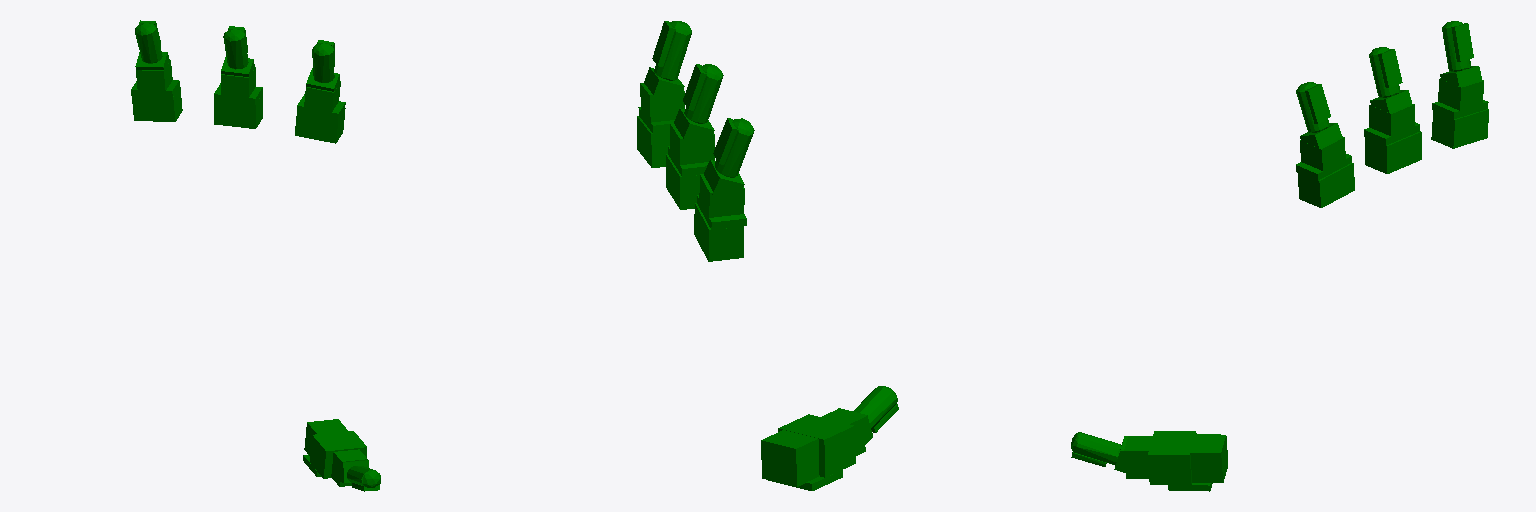
URDF robot description (kuka_allegro):
<?xml version="1.0" ?>
<!-- ============================================================================================== -->
<!-- |    This document was originally autogenerated by xacro from lula_kuka_allegro.urdf.xacro   | -->
<!-- ============================================================================================== -->
<robot name="kuka_allegro" xmlns:xacro="http://www.ros.org/wiki/xacro">
  <!-- ======================== BASE PARAMS ========================= -->
  <!-- ======================== FINGER PARAMS ======================== -->
  <!-- full height from joint to tip. when used,
       the radius of the finger tip sphere will be subtracted
       and one fixed link will be added for the tip. -->
  <!-- ========================= THUMB PARAMS ========================= -->
  <!-- ========================= LIMITS ========================= -->
  <!-- ============================================================================= -->
  <!-- BASE -->
  <link name="allegro_mount">
    <inertial>
      <mass value="0.05"/>
      <origin rpy="0 0 0" xyz="0 0 0"/>
      <inertia ixx="1e-4" ixy="0" ixz="0" iyy="1e-4" iyz="0" izz="1e-4"/>
    </inertial>
    <visual>
      <origin rpy="0 0 0" xyz="0 0 0"/>
      <geometry>
        <mesh filename="kuka_allegro_description/meshes/mounts/allegro_mount.obj"/>
      </geometry>
      <material name="color_j7"/>
    </visual>
    <collision>
      <origin rpy="0 0 0" xyz="0 0 0"/>
      <geometry>
        <mesh filename="kuka_allegro_description/meshes/mounts/allegro_mount.obj"/>
      </geometry>
    </collision>
  </link>
  <joint name="allegro_mount_joint" type="fixed">
    <origin rpy="0 -1.5708 0.785398" xyz="-0.008219 -0.02063 0.08086"/>
    <parent link="allegro_mount"/>
    <child link="palm_link"/>
  </joint>
  <link name="palm_link">
    <inertial>
      <mass value="0.4154"/>
      <origin rpy="0 0 0" xyz="0 0 0"/>
      <inertia ixx="1e-4" ixy="0" ixz="0" iyy="1e-4" iyz="0" izz="1e-4"/>
    </inertial>
    <visual>
      <geometry>
        <mesh filename="kuka_allegro_description/meshes/allegro/base_link.obj"/>
      </geometry>
      <origin rpy="0 0 0" xyz="0 0 0 "/>
      <material name="Grey">
        <color rgba="0.2 0.2 0.2 1"/>
      </material>
    </visual>
    <collision>
      <origin rpy="0 0 0" xyz="0 0 0"/>
      <geometry>
        <mesh filename="kuka_allegro_description/meshes/allegro/base_link.obj"/>
      </geometry>
    </collision>
  </link>
  
  <gazebo reference="palm_link">
    <material value="Gazebo/Grey"/>
  </gazebo>
  <link name="index_link_0">
    <collision>
      <geometry>
        <mesh filename="kuka_allegro_description/meshes/allegro/primary_base.obj"/>
      </geometry>
    </collision>
    <inertial>
      <mass value="0.0119"/>
      <origin rpy="0 0 0" xyz="0 0 0"/>
      <inertia ixx="1.01666658333e-06" ixy="0.0" ixz="0.0" iyy="6.47677333333e-07" iyz="0.0" izz="1.01666658333e-06"/>
    </inertial>
    <visual>
      <geometry>
        <mesh filename="kuka_allegro_description/meshes/allegro/primary_base.obj"/>
      </geometry>
      <material name="Grey">
        <color rgba="0.2 0.2 0.2 1"/>
      </material>
    </visual>
  </link>
  <link name="index_link_1">
    <collision>
      <geometry>
        <mesh filename="kuka_allegro_description/meshes/allegro/primary_proximal.obj"/>
      </geometry>
    </collision>
    <inertial>
      <mass value="0.065"/>
      <origin rpy="0 0 0" xyz="0 0 0"/>
      <inertia ixx="7.95654166667e-05" ixy="1.7199e-05" ixz="8.75875e-06" iyy="2.47088833333e-05" iyz="2.413125e-05" izz="7.95654166667e-05"/>
    </inertial>
    <visual>
      <geometry>
        <mesh filename="kuka_allegro_description/meshes/allegro/primary_proximal.obj"/>
      </geometry>
      <material name="Grey">
        <color rgba="0.2 0.2 0.2 1"/>
      </material>
    </visual>
  </link>
  <link name="index_link_2">
    <collision>
      <geometry>
        <mesh filename="kuka_allegro_description/meshes/allegro/primary_medial.obj"/>
      </geometry>
    </collision>
        <inertial>
      <mass value="0.0355"/>
      <origin rpy="0 0 0" xyz="0 0 0"/>
      <inertia ixx="2.63979183333e-05" ixy="6.67968e-06" ixz="4.783625e-06" iyy="1.34948516667e-05" iyz="9.372e-06" izz="2.63979183333e-05"/>
    </inertial>
    <visual>
      <geometry>
        <mesh filename="kuka_allegro_description/meshes/allegro/primary_medial.obj"/>
      </geometry>
      <material name="Grey">
        <color rgba="0.2 0.2 0.2 1"/>
      </material>
    </visual>
  </link>
  <link name="index_link_3">
    <collision>
      <geometry>
        <mesh filename="meshes/touchsensor/collision/touch_sensor_base.obj"/>
      </geometry>
    </collision>
    <inertial>
      <mass value="0.0096"/>
      <origin rpy="0 0 0" xyz="0 0 0"/>
      <inertia ixx="4.701248e-06" ixy="1.255968e-06" ixz="1.2936e-06" iyy="3.649312e-06" iyz="1.7622e-06" izz="4.701248e-06"/>
    </inertial>
    <visual>
      <geometry>
        <mesh filename="meshes/touchsensor/visual/touch_sensor_base.obj"/>
      </geometry>
      <material name="Green">
        <color rgba="0. 0.5 0. 1"/>
      </material>
    </visual>
  </link>
  <link name="index_biotac_tip">
    <collision>
      <geometry>
        <mesh filename="meshes/touchsensor/collision/touch_sensor_tip.obj"/>
      </geometry>
    </collision>
    <inertial>
      <mass value="0.021"/>
      <origin rpy="0 0 0" xyz="0 0 0"/>
      <inertia ixx="9.68e-07" ixy="0" ixz="0" iyy="9.68e-07" iyz="0" izz="9.68e-07"/>
    </inertial>
    <visual>
      <geometry>
        <mesh filename="meshes/touchsensor/visual/touch_sensor_tip.obj"/>
      </geometry>
      <material name="Green">
        <color rgba="0. 0.5 0. 1"/>
      </material>
    </visual>
  </link>
  <link name="middle_link_0">
    <collision>
      <geometry>
        <mesh filename="kuka_allegro_description/meshes/allegro/primary_base.obj"/>
      </geometry>
    </collision>
    <inertial>
      <mass value="0.0119"/>
      <origin rpy="0 0 0" xyz="0 0 0"/>
      <inertia ixx="1.01666658333e-06" ixy="0.0" ixz="0.0" iyy="6.47677333333e-07" iyz="0.0" izz="1.01666658333e-06"/>
    </inertial>
    <visual>
      <geometry>
        <mesh filename="kuka_allegro_description/meshes/allegro/primary_base.obj"/>
      </geometry>
      <material name="Grey">
        <color rgba="0.2 0.2 0.2 1"/>
      </material>
    </visual>
  </link>
  <link name="middle_link_1">
    <collision>
      <geometry>
        <mesh filename="kuka_allegro_description/meshes/allegro/primary_proximal.obj"/>
      </geometry>
    </collision>
    <inertial>
      <mass value="0.065"/>
      <origin rpy="0 0 0" xyz="0 0 0"/>
      <inertia ixx="7.95654166667e-05" ixy="1.7199e-05" ixz="8.75875e-06" iyy="2.47088833333e-05" iyz="2.413125e-05" izz="7.95654166667e-05"/>
    </inertial>
    <visual>
      <geometry>
        <mesh filename="kuka_allegro_description/meshes/allegro/primary_proximal.obj"/>
      </geometry>
      <material name="Grey">
        <color rgba="0.2 0.2 0.2 1"/>
      </material>
    </visual>
  </link>
  <link name="middle_link_2">
    <collision>
      <geometry>
        <mesh filename="kuka_allegro_description/meshes/allegro/primary_medial.obj"/>
      </geometry>
    </collision>
    <inertial>
      <mass value="0.0355"/>
      <origin rpy="0 0 0" xyz="0 0 0"/>
      <inertia ixx="2.63979183333e-05" ixy="6.67968e-06" ixz="4.783625e-06" iyy="1.34948516667e-05" iyz="9.372e-06" izz="2.63979183333e-05"/>
    </inertial>
    <visual>
      <geometry>
        <mesh filename="kuka_allegro_description/meshes/allegro/primary_medial.obj"/>
      </geometry>
      <material name="Grey">
        <color rgba="0.2 0.2 0.2 1"/>
      </material>
    </visual>
  </link>
  <link name="middle_link_3">
    <collision>
      <geometry>
        <mesh filename="meshes/touchsensor/collision/touch_sensor_base.obj"/>
      </geometry>
    </collision>
    <inertial>
      <mass value="0.0096"/>
      <origin rpy="0 0 0" xyz="0 0 0"/>
      <inertia ixx="4.701248e-06" ixy="1.255968e-06" ixz="1.2936e-06" iyy="3.649312e-06" iyz="1.7622e-06" izz="4.701248e-06"/>
    </inertial>
    <visual>
      <geometry>
        <mesh filename="meshes/touchsensor/visual/touch_sensor_base.obj"/>
      </geometry>
      <material name="Green">
        <color rgba="0 0.5 0 1"/>
      </material>
    </visual>
  </link>
  <link name="middle_biotac_tip">
    <collision>
      <geometry>
        <mesh filename="meshes/touchsensor/collision/touch_sensor_tip.obj"/>
      </geometry>
    </collision>
    <inertial>
      <mass value="0.021"/>
      <origin rpy="0 0 0" xyz="0 0 0"/>
      <inertia ixx="9.68e-07" ixy="0" ixz="0" iyy="9.68e-07" iyz="0" izz="9.68e-07"/>
    </inertial>
    <visual>
      <geometry>
        <mesh filename="meshes/touchsensor/visual/touch_sensor_tip.obj"/>
      </geometry>
      <material name="Green">
        <color rgba="0. 0.5 0. 1"/>
      </material>
    </visual>
  </link>

  <link name="ring_link_0">
    <collision>
      <geometry>
        <mesh filename="kuka_allegro_description/meshes/allegro/primary_base.obj"/>
      </geometry>
    </collision>
    <inertial>
      <mass value="0.0119"/>
      <origin rpy="0 0 0" xyz="0 0 0"/>
      <inertia ixx="1.01666658333e-06" ixy="0.0" ixz="0.0" iyy="6.47677333333e-07" iyz="0.0" izz="1.01666658333e-06"/>
    </inertial>
    <visual>
      <geometry>
        <mesh filename="kuka_allegro_description/meshes/allegro/primary_base.obj"/>
      </geometry>
      <material name="Grey">
        <color rgba="0.2 0.2 0.2 1"/>
      </material>
    </visual>
  </link>
  <link name="ring_link_1">
    <collision>
      <geometry>
        <mesh filename="kuka_allegro_description/meshes/allegro/primary_proximal.obj"/>
      </geometry>
    </collision>
    <inertial>
      <mass value="0.065"/>
      <origin rpy="0 0 0" xyz="0 0 0"/>
      <inertia ixx="7.95654166667e-05" ixy="1.7199e-05" ixz="8.75875e-06" iyy="2.47088833333e-05" iyz="2.413125e-05" izz="7.95654166667e-05"/>
    </inertial>
    <visual>
      <geometry>
        <mesh filename="kuka_allegro_description/meshes/allegro/primary_proximal.obj"/>
      </geometry>
      <material name="Grey">
        <color rgba="0.2 0.2 0.2 1"/>
      </material>
    </visual>
  </link>
  <link name="ring_link_2">
    <collision>
      <geometry>
        <mesh filename="kuka_allegro_description/meshes/allegro/primary_medial.obj"/>
      </geometry>
    </collision>
    <inertial>
      <mass value="0.0355"/>
      <origin rpy="0 0 0" xyz="0 0 0"/>
      <inertia ixx="2.63979183333e-05" ixy="6.67968e-06" ixz="4.783625e-06" iyy="1.34948516667e-05" iyz="9.372e-06" izz="2.63979183333e-05"/>
    </inertial>
    <visual>
      <geometry>
        <mesh filename="kuka_allegro_description/meshes/allegro/primary_medial.obj"/>
      </geometry>
      <material name="Grey">
        <color rgba="0.2 0.2 0.2 1"/>
      </material>
    </visual>
  </link>
  <link name="ring_link_3">
    <collision>
      <geometry>
        <mesh filename="meshes/touchsensor/collision/touch_sensor_base.obj"/>
      </geometry>
    </collision>
    <inertial>
      <mass value="0.0096"/>
      <origin rpy="0 0 0" xyz="0 0 0"/>
      <inertia ixx="4.701248e-06" ixy="1.255968e-06" ixz="1.2936e-06" iyy="3.649312e-06" iyz="1.7622e-06" izz="4.701248e-06"/>
    </inertial>
    <visual>
      <geometry>
        <mesh filename="meshes/touchsensor/visual/touch_sensor_base.obj"/>
      </geometry>
      <material name="Green">
        <color rgba="0 0.5 0 1"/>
      </material>
    </visual>
  </link>
  <link name="ring_biotac_tip">
    <collision>
      <geometry>
        <mesh filename="meshes/touchsensor/collision/touch_sensor_tip.obj"/>
      </geometry>
    </collision>
    <inertial>
      <mass value="0.021"/>
      <origin rpy="0 0 0" xyz="0 0 0"/>
      <inertia ixx="9.68e-07" ixy="0" ixz="0" iyy="9.68e-07" iyz="0" izz="9.68e-07"/>
    </inertial>
    <visual>
      <geometry>
        <mesh filename="meshes/touchsensor/visual/touch_sensor_tip.obj"/>
      </geometry>
      <material name="Green">
        <color rgba="0. 0.5 0. 1"/>
      </material>
    </visual>
  </link>

  <link name="thumb_link_0">
    <collision>
      <geometry>
        <mesh filename="kuka_allegro_description/meshes/allegro/thumb_base.obj"/>
      </geometry>
    </collision>
    <inertial>
      <mass value="0.0176"/>
      <origin rpy="0 0 0" xyz="0 0 0"/>
      <inertia ixx="1.89273333333e-5" ixy="7.16716e-06" ixz="5.35568e-06" iyy="1.43008213333e-05" iyz="6.8068e-06" izz="1.89273333333e-05"/>
    </inertial>
    <visual>
      <geometry>
        <mesh filename="kuka_allegro_description/meshes/allegro/thumb_base.obj"/>
      </geometry>
      <material name="Grey">
        <color rgba="0.2 0.2 0.2 1"/>
      </material>
    </visual>
  </link>
  <link name="thumb_link_1">
    <collision>
      <geometry>
        <mesh filename="kuka_allegro_description/meshes/allegro/thumb_proximal.obj"/>
      </geometry>
    </collision>
    <inertial>
      <mass value="0.0119"/>
      <origin rpy="0 0 0" xyz="0 0 0"/>
      <inertia ixx="4.24250866667e-06" ixy="1.032087e-06" ixz="1.603525e-06" iyy="4.52362633333e-06" iyz="1.44808125e-06" izz="4.24250866667e-06"/>
    </inertial>
    <visual>
      <geometry>
        <mesh filename="kuka_allegro_description/meshes/allegro/thumb_proximal.obj"/>
      </geometry>
      <material name="Grey">
        <color rgba="0.2 0.2 0.2 1"/>
      </material>
    </visual>
  </link>
  <link name="thumb_link_2">
    <collision>
      <geometry>
        <mesh filename="kuka_allegro_description/meshes/allegro/thumb_medial.obj"/>
      </geometry>
    </collision>
    <inertial>
      <mass value="0.038"/>
      <origin rpy="0 0 0" xyz="0 0 0"/>
      <inertia ixx="4.30439933333e-05" ixy="9.57068e-06" ixz="5.1205e-06" iyy="1.44451933333e-05" iyz="1.342825e-05" izz="4.30439933333e-05"/>
    </inertial>
    <visual>
      <geometry>
        <mesh filename="kuka_allegro_description/meshes/allegro/thumb_medial.obj"/>
      </geometry>
      <material name="Grey">
        <color rgba="0.2 0.2 0.2 1"/>
      </material>
    </visual>
  </link>
  <link name="thumb_link_3">
    <collision>
      <geometry>
        <mesh filename="meshes/touchsensor/collision/touch_sensor_thumb_base.obj"/>
      </geometry>
    </collision>
    <inertial>
      <mass value="0.0388"/>
      <origin rpy="0 0 0" xyz="0 0 0"/>
      <inertia ixx="3.29223173333e-05" ixy="8.042076e-06" ixz="5.2283e-06" iyy="1.47493026667e-5" iyz="1.1283525e-5" izz="3.29223173333e-05"/>
    </inertial>
    <visual>
      <geometry>
        <mesh filename="meshes/touchsensor/visual/touch_sensor_thumb_base.obj"/>
      </geometry>
      <material name="Green">
        <color rgba="0 0.5 0 1"/>
      </material>
    </visual>
  </link>
  <link name="thumb_biotac_tip">
    <collision>
      <geometry>
        <mesh filename="meshes/touchsensor/collision/touch_sensor_thumb_tip.obj"/>
      </geometry>
    </collision>
    <inertial>
      <mass value="0.021"/>
      <origin rpy="0 0 0" xyz="0 0 0"/>
      <inertia ixx="9.68e-07" ixy="0" ixz="0" iyy="9.68e-07" iyz="0" izz="9.68e-07"/>
    </inertial>
    <visual>
      <geometry>
        <mesh filename="meshes/touchsensor/visual/touch_sensor_thumb_tip.obj"/>
      </geometry>
      <material name="Green">
        <color rgba="0. 0.5 0. 1"/>
      </material>
    </visual>
  </link>

  <joint name="index_joint_0" type="revolute">
    <axis xyz="0 0 1"/>
    <limit effort="0.35" lower="-0.558488888889" upper="0.558488888889" velocity="6.283"/>
    <origin rpy="3.1415 -1.57075 -0.0872638888889" xyz="0.0514302 -0.03632 -0.0113"/>
    <parent link="palm_link"/>
    <child link="index_link_0"/>
    <dynamics damping="0.0414019" friction="0.0523963"/>
  </joint>
  <joint name="index_joint_1" type="revolute">
    <axis xyz="0 0 1"/>
    <limit effort="0.35" lower="-0.279244444444" upper="1.727825" velocity="6.283"/>
    <origin rpy="3.1415 -1.57075 1.57075" xyz="0.0 0.0 0.0"/>
    <parent link="index_link_0"/>
    <child link="index_link_1"/>
    <dynamics damping="0.00587541" friction="0.0150275"/>
  </joint>
  <joint name="index_joint_2" type="revolute">
    <axis xyz="0 0 1"/>
    <limit effort="0.35" lower="-0.279244444444" upper="1.727825" velocity="6.283"/>
    <origin rpy="0.0 0.0 0.0" xyz="0.054 0.0 0.0"/>
    <parent link="index_link_1"/>
    <child link="index_link_2"/>
    <dynamics damping="0.010638" friction="0.00616359"/>
  </joint>
  <joint name="index_joint_3" type="revolute">
    <axis xyz="0 0 1"/>
    <limit effort="0.35" lower="-0.279244444444" upper="1.727825" velocity="6.283"/>
    <origin rpy="0.0 0.0 0.0" xyz="0.0384 0.0 0.0"/>
    <parent link="index_link_2"/>
    <child link="index_link_3"/>
    <dynamics damping="0.0226948" friction="0.0227036"/>
  </joint>
  <joint name="index_biotac_tip_joint" type="fixed">
    <origin rpy="0 0 0 " xyz="0.0 0 0"/>
    <parent link="index_link_3"/>
    <child link="index_biotac_tip"/>
  </joint>

  <joint name="middle_joint_0" type="revolute">
    <axis xyz="0 0 1"/>
    <limit effort="0.35" lower="-0.558488888889" upper="0.558488888889" velocity="6.283"/>
    <origin rpy="3.1415 -1.57075 0" xyz="0.0537375 0.0087771 -0.0113"/>
    <parent link="palm_link"/>
    <child link="middle_link_0"/>
    <dynamics damping="0.0414019" friction="0.0523963"/>
  </joint>
  <joint name="middle_joint_1" type="revolute">
    <axis xyz="0 0 1"/>
    <limit effort="0.35" lower="-0.279244444444" upper="1.727825" velocity="6.283"/>
    <origin rpy="3.1415 -1.57075 1.57075" xyz="0.0 0.0 0.0"/>
    <parent link="middle_link_0"/>
    <child link="middle_link_1"/>
    <dynamics damping="0.00587541" friction="0.0150275"/>
  </joint>
  <joint name="middle_joint_2" type="revolute">
    <axis xyz="0 0 1"/>
    <limit effort="0.35" lower="-0.279244444444" upper="1.727825" velocity="6.283"/>
    <origin rpy="0.0 0.0 0.0" xyz="0.054 0.0 0.0"/>
    <parent link="middle_link_1"/>
    <child link="middle_link_2"/>
    <dynamics damping="0.010638" friction="0.00616359"/>
  </joint>
  <joint name="middle_joint_3" type="revolute">
    <axis xyz="0 0 1"/>
    <limit effort="0.35" lower="-0.279244444444" upper="1.727825" velocity="6.283"/>
    <origin rpy="0.0 0.0 0.0" xyz="0.0384 0.0 0.0"/>
    <parent link="middle_link_2"/>
    <child link="middle_link_3"/>
    <dynamics damping="0.0226948" friction="0.0227036"/>
  </joint>
  <joint name="middle_biotac_tip_joint" type="fixed">
    <origin rpy="0 0 0 " xyz="0 0 0"/>
    <parent link="middle_link_3"/>
    <child link="middle_biotac_tip"/>
  </joint>

  <joint name="ring_joint_0" type="revolute">
    <axis xyz="0 0 1"/>
    <limit effort="0.35" lower="-0.558488888889" upper="0.558488888889" velocity="6.283"/>
    <origin rpy="3.1415 -1.57075 0.0872638888889" xyz="0.0514302 0.0538749 -0.0113"/>
    <parent link="palm_link"/>
    <child link="ring_link_0"/>
    <dynamics damping="0.0414019" friction="0.0523963"/>
  </joint>
  <joint name="ring_joint_1" type="revolute">
    <axis xyz="0 0 1"/>
    <limit effort="0.35" lower="-0.279244444444" upper="1.727825" velocity="6.283"/>
    <origin rpy="3.1415 -1.57075 1.57075" xyz="0.0 0.0 0.0"/>
    <parent link="ring_link_0"/>
    <child link="ring_link_1"/>
    <dynamics damping="0.00587541" friction="0.0150275"/>
  </joint>
  <joint name="ring_joint_2" type="revolute">
    <axis xyz="0 0 1"/>
    <limit effort="0.35" lower="-0.279244444444" upper="1.727825" velocity="6.283"/>
    <origin rpy="0.0 0.0 0.0" xyz="0.054 0.0 0.0"/>
    <parent link="ring_link_1"/>
    <child link="ring_link_2"/>
    <dynamics damping="0.010638" friction="0.00616359"/>
  </joint>
  <joint name="ring_joint_3" type="revolute">
    <axis xyz="0 0 1"/>
    <limit effort="0.35" lower="-0.279244444444" upper="1.727825" velocity="6.283"/>
    <origin rpy="0.0 0.0 0.0" xyz="0.0384 0.0 0.0"/>
    <parent link="ring_link_2"/>
    <child link="ring_link_3"/>
    <dynamics damping="0.0226948" friction="0.0227036"/>
  </joint>
  <joint name="ring_biotac_tip_joint" type="fixed">
    <origin rpy="0 0 0" xyz="0 0 0"/>
    <parent link="ring_link_3"/>
    <child link="ring_biotac_tip"/>
  </joint>

  <joint name="thumb_joint_0" type="revolute">
    <axis xyz="0 0 1"/>
    <limit effort="0.35" lower="0.279244444444" upper="1.57075" velocity="6.283"/>
    <origin rpy="-1.57075 -1.57075 1.48348611111" xyz="-0.0367482 -0.0081281 -0.0295"/>
    <parent link="palm_link"/>
    <child link="thumb_link_0"/>
    <dynamics friction="0.035"/>
  </joint>
  <joint name="thumb_joint_1" type="revolute">
    <axis xyz="0 0 1"/>
    <limit effort="0.35" lower="-0.331602777778" upper="1.15188333333" velocity="6.283"/>
    <origin rpy="1.57075 0 0" xyz="0.005 0.0 0.0"/>
    <parent link="thumb_link_0"/>
    <child link="thumb_link_1"/>
    <dynamics friction="0.035"/>
  </joint>
  <joint name="thumb_joint_2" type="revolute">
    <axis xyz="0 0 1"/>
    <limit effort="0.35" lower="-0.279244444444" upper="1.727825" velocity="6.283"/>
    <origin rpy="3.1415 -1.57075 0.0" xyz="0 0 0.0554"/>
    <parent link="thumb_link_1"/>
    <child link="thumb_link_2"/>
    <dynamics friction="0.035"/>
  </joint>
  <joint name="thumb_joint_3" type="revolute">
    <axis xyz="0 0 1"/>
    <limit effort="0.35" lower="-0.279244444444" upper="1.76273055556" velocity="6.283"/>
    <origin rpy="0.0 0.0 0.0" xyz="0.0514 0.0 0.0"/>
    <parent link="thumb_link_2"/>
    <child link="thumb_link_3"/>
    <dynamics friction="0.035"/>
  </joint>
  <joint name="thumb_biotac_tip_joint" type="fixed">
    <origin rpy="0 0 0 " xyz="0 0 0"/>
    <parent link="thumb_link_3"/>
    <child link="thumb_biotac_tip"/>
  </joint>

</robot>

--- What the picture shows (computed from the rendered views, not written in the file) ---
The picture shows the robot from 3 angles, left to right: view 1: azimuth 30°, elevation 25°; view 2: azimuth 150°, elevation 25°; view 3: azimuth 270°, elevation 25°; orthographic projection.
Model kuka_allegro with 22 links and 21 joints (16 revolute, 5 fixed), rooted at allegro_mount, posed all joints at 0 but 1 set to mid-range because 0 is outside their limits (thumb_joint_0 = 0.925).
Visible links, largest first — view 1: thumb_link_3, ring_link_3, middle_link_3, index_link_3, ring_biotac_tip, middle_biotac_tip, index_biotac_tip, thumb_biotac_tip; view 2: thumb_link_3, ring_link_3, middle_link_3, index_link_3, middle_biotac_tip, index_biotac_tip, ring_biotac_tip, thumb_biotac_tip; view 3: thumb_link_3, middle_link_3, ring_link_3, index_link_3, ring_biotac_tip, middle_biotac_tip, index_biotac_tip, thumb_biotac_tip.
Boxes of the visible links, bbox=[...] form: thumb_link_3: bbox=[303, 419, 368, 486]; ring_link_3: bbox=[131, 52, 182, 121]; middle_link_3: bbox=[214, 57, 262, 128]; index_link_3: bbox=[295, 68, 345, 143]; ring_biotac_tip: bbox=[135, 20, 162, 63]; middle_biotac_tip: bbox=[223, 26, 248, 69]; index_biotac_tip: bbox=[312, 40, 334, 82]; thumb_biotac_tip: bbox=[347, 466, 380, 491]; thumb_link_3: bbox=[761, 408, 872, 490]; ring_link_3: bbox=[694, 160, 746, 261]; middle_link_3: bbox=[666, 108, 714, 209]; index_link_3: bbox=[637, 67, 684, 167]; middle_biotac_tip: bbox=[683, 64, 723, 123]; index_biotac_tip: bbox=[652, 21, 691, 80]; ring_biotac_tip: bbox=[713, 118, 754, 177]; thumb_biotac_tip: bbox=[853, 386, 898, 432]; thumb_link_3: bbox=[1114, 431, 1227, 491]; middle_link_3: bbox=[1364, 90, 1421, 173]; ring_link_3: bbox=[1431, 66, 1488, 148]; index_link_3: bbox=[1296, 123, 1354, 207]; ring_biotac_tip: bbox=[1442, 21, 1473, 71]; middle_biotac_tip: bbox=[1369, 47, 1402, 97]; index_biotac_tip: bbox=[1296, 82, 1330, 132]; thumb_biotac_tip: bbox=[1071, 432, 1120, 466].
Bounding box of the posed robot: 0.1091 × 0.236 × 0.2661 m (x, y, z).
Meshes: 12 distinct files referenced, 8 mesh visuals loaded (4 OBJ); not drawn: 14 (file found but could not be loaded).